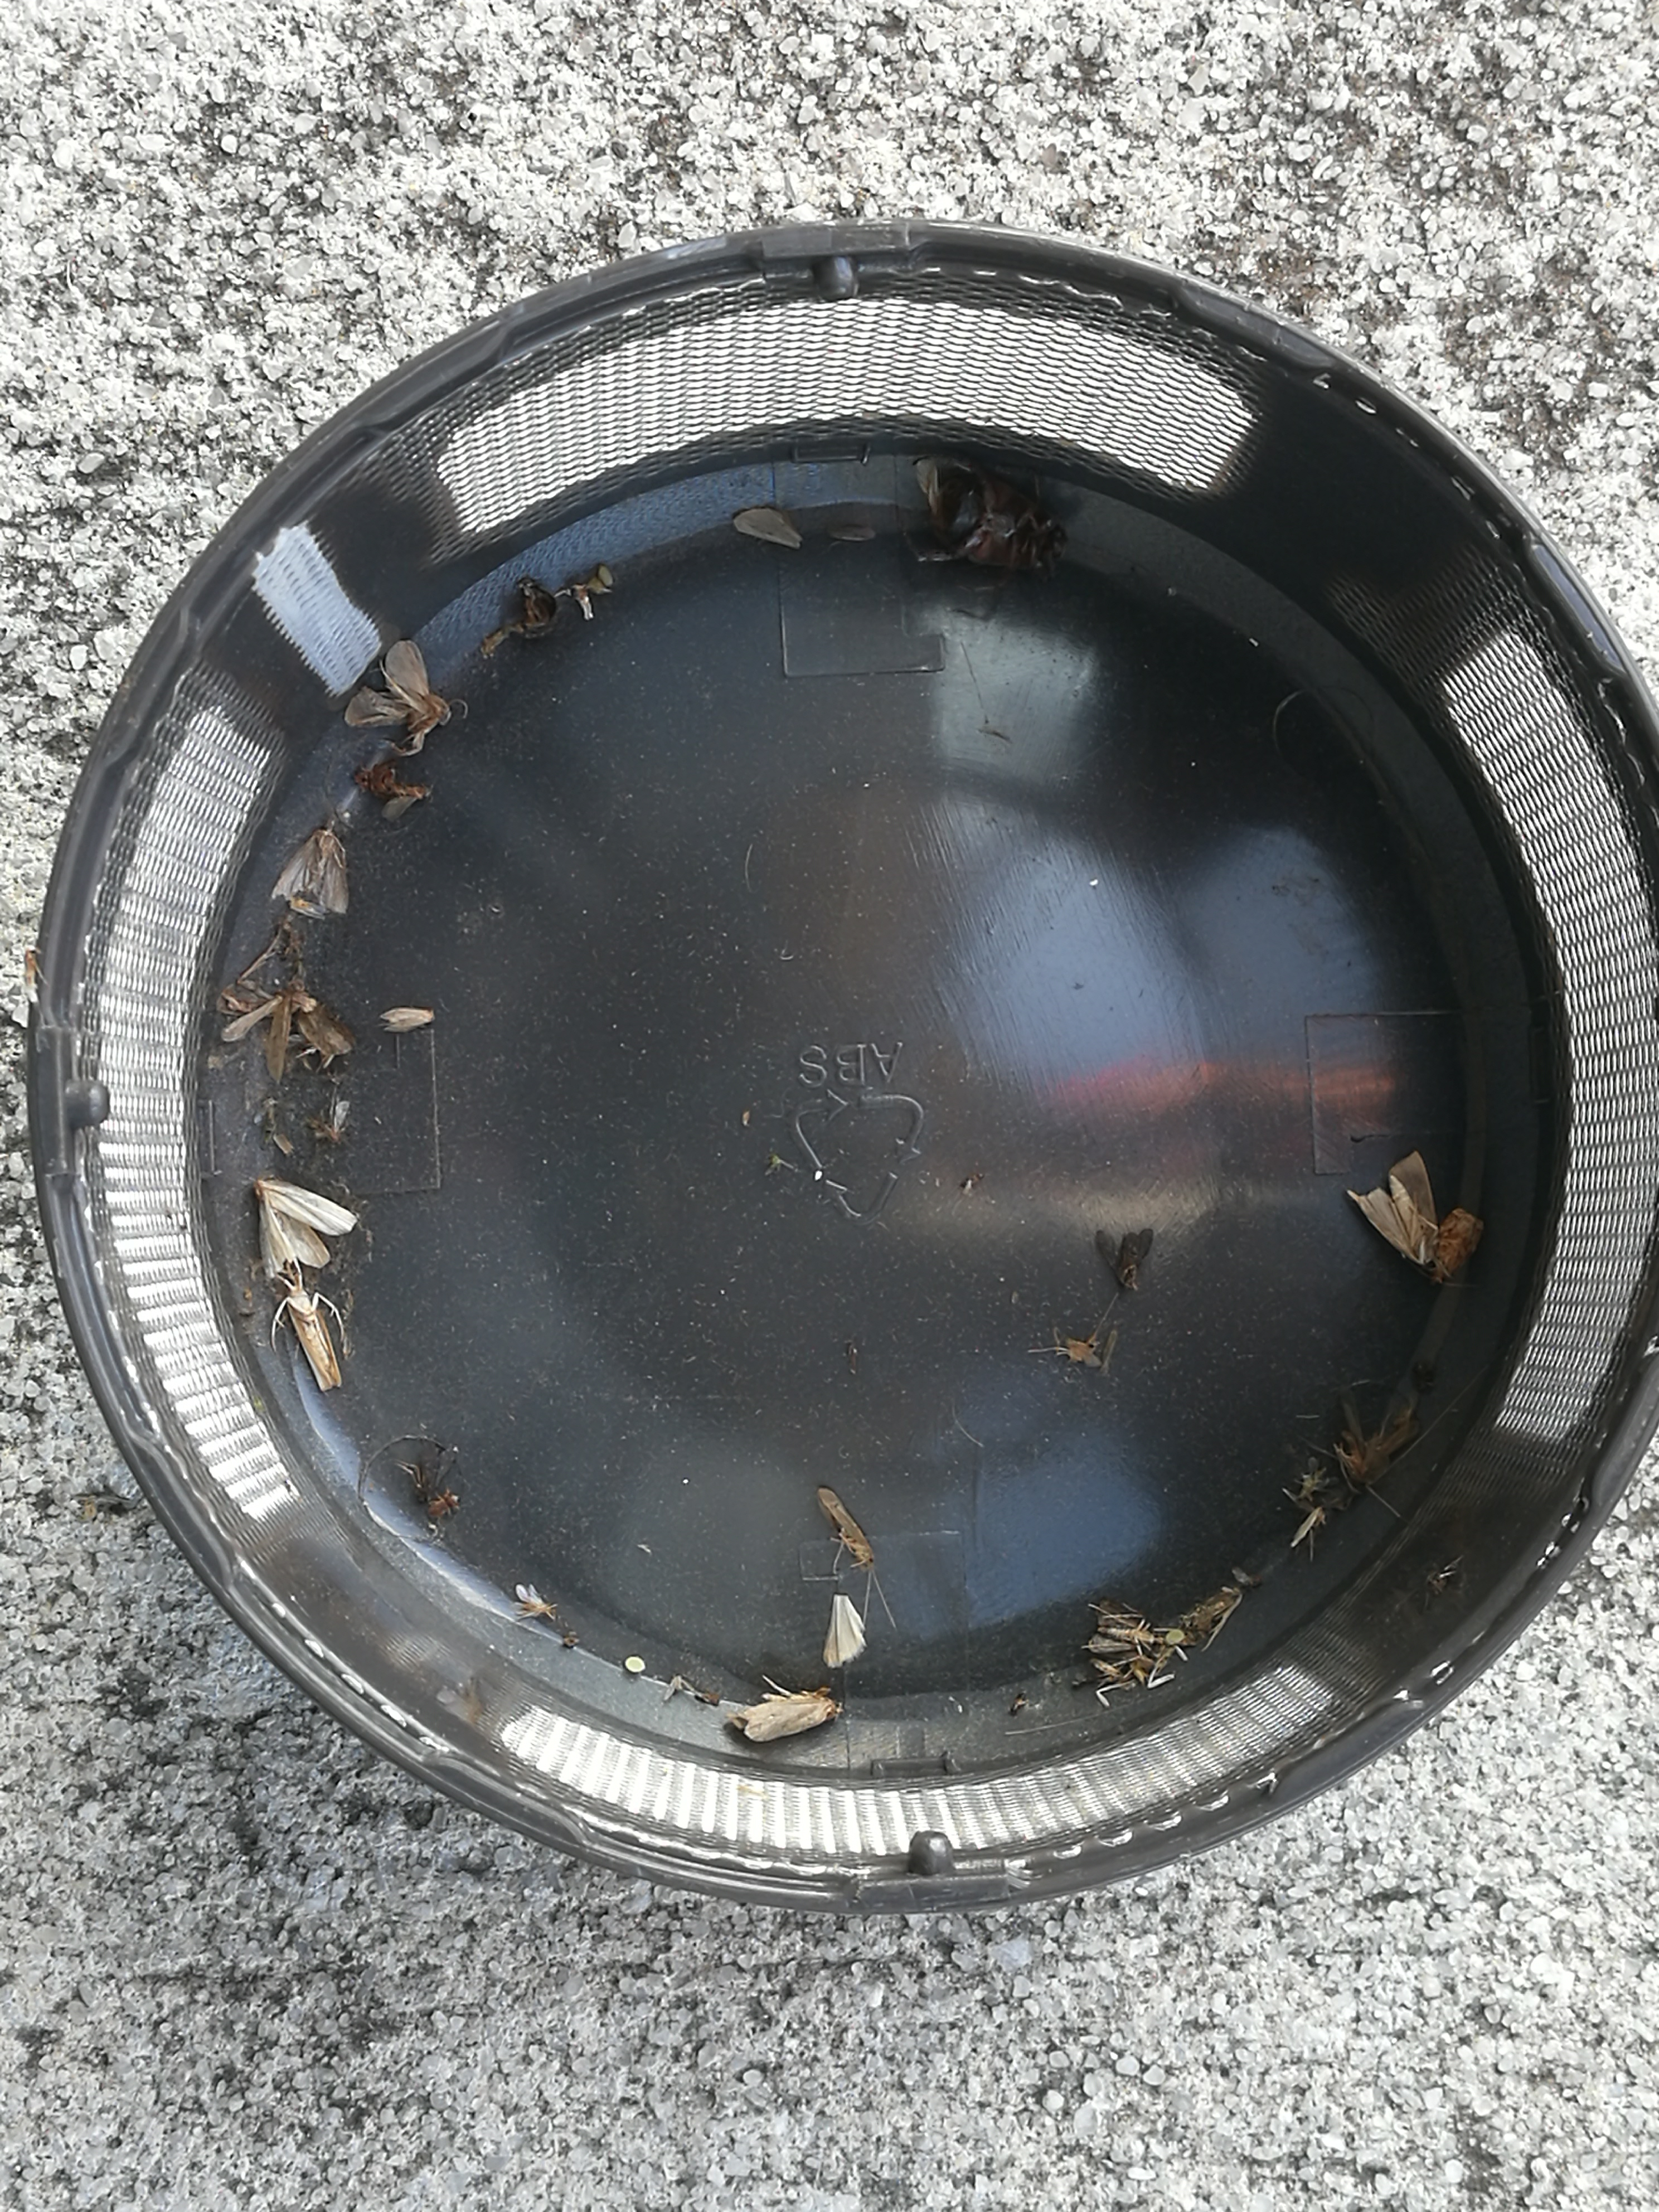beetle: (931, 472, 1066, 566)
mosquito: (284, 1287, 342, 1390), (816, 1487, 873, 1566), (380, 1005, 434, 1033), (1291, 1503, 1323, 1547)
moth: (1345, 1151, 1438, 1266), (256, 1179, 354, 1275), (345, 641, 451, 726), (270, 829, 349, 913), (744, 1696, 842, 1742), (1431, 1209, 1483, 1287), (1087, 1602, 1157, 1651), (1098, 1230, 1154, 1289)
